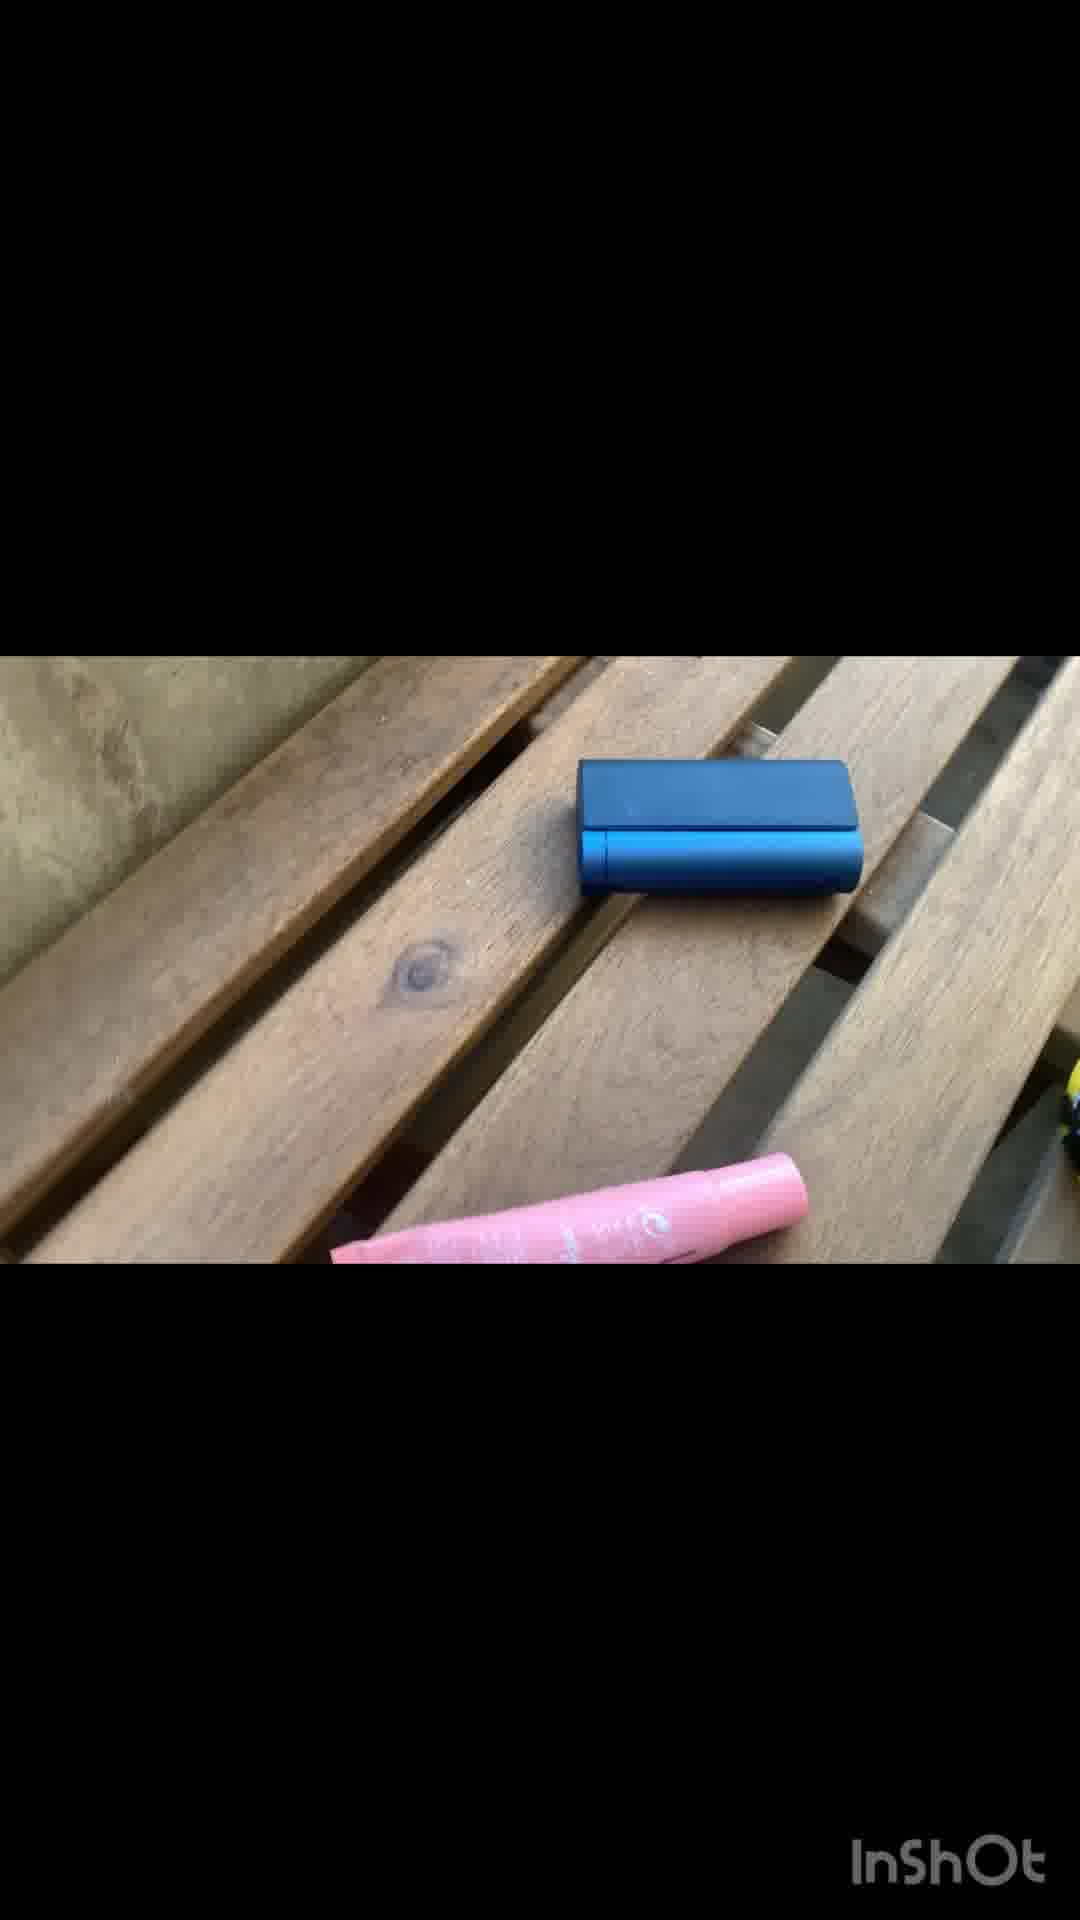glo: (564, 749, 877, 903)
lip balm: (331, 1139, 823, 1267)
